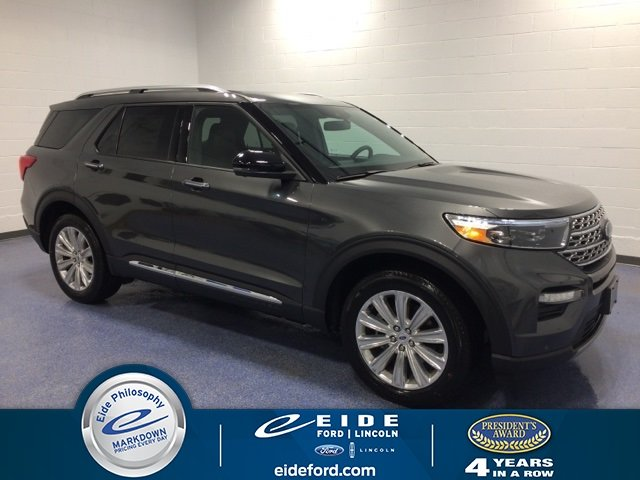Ford Explorer: (18, 79, 622, 407)
